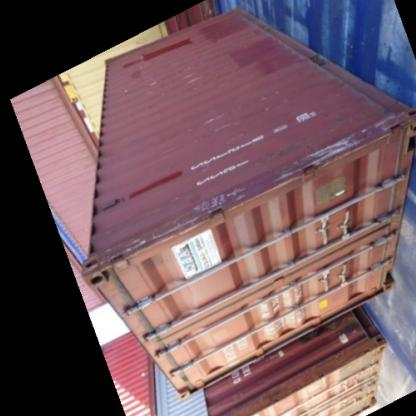Damage: (85, 228, 151, 278), (298, 132, 374, 174), (156, 212, 204, 240), (258, 90, 296, 113), (207, 112, 246, 134), (178, 64, 202, 94), (194, 110, 230, 130), (224, 184, 250, 206), (140, 74, 164, 94), (255, 91, 274, 105)
